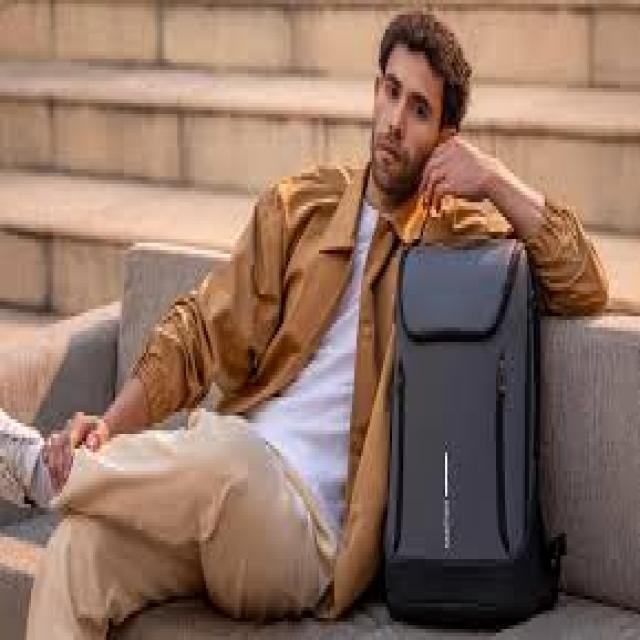backpack: (389, 233, 557, 631)
